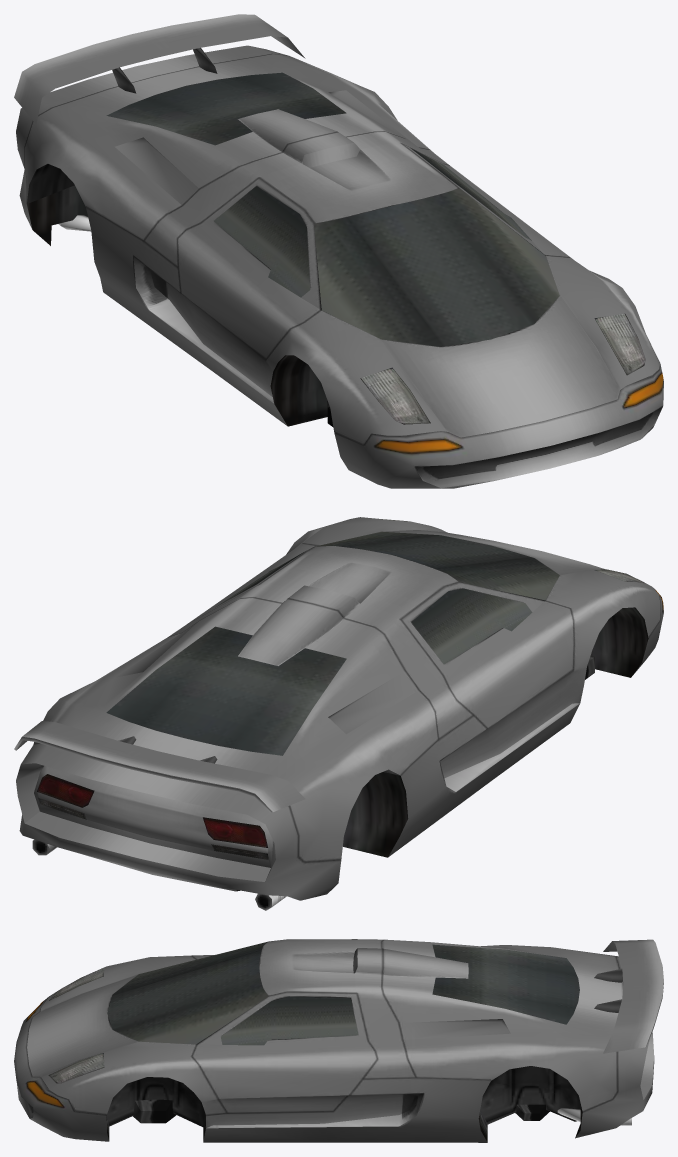
File: eagle.glb
The picture shows the model from 3 angles, top to bottom: view 1: azimuth 30°, elevation 25°; view 2: azimuth 150°, elevation 25°; view 3: azimuth 270°, elevation 25°; orthographic projection. The views are drawn at different scales.
Parts seen in each view (by area): view 1: part0, part3, part2, part1; view 2: part0, part3, part2, part4, part5; view 3: part0, part3, part2, part1.
Boxes of the visible parts, <box> form: part0: <box>14,14,663,488</box>; part3: <box>106,72,559,346</box>; part2: <box>27,163,333,426</box>; part1: <box>360,313,645,424</box>; part0: <box>14,517,663,900</box>; part3: <box>106,531,559,755</box>; part2: <box>32,607,648,910</box>; part4: <box>37,774,267,847</box>; part5: <box>38,797,268,859</box>; part0: <box>14,939,663,1142</box>; part3: <box>107,941,579,1045</box>; part2: <box>106,1066,631,1142</box>; part1: <box>48,967,104,1083</box>.
Bounding box in the file's own units: 1.97 × 1.03 × 4.56.
Materials: 7 (7 with a texture image).
